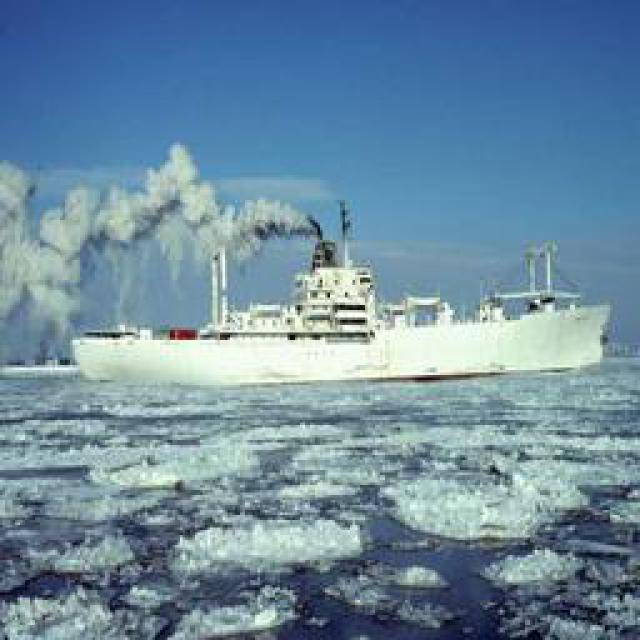Ship: (70, 214, 618, 397)
